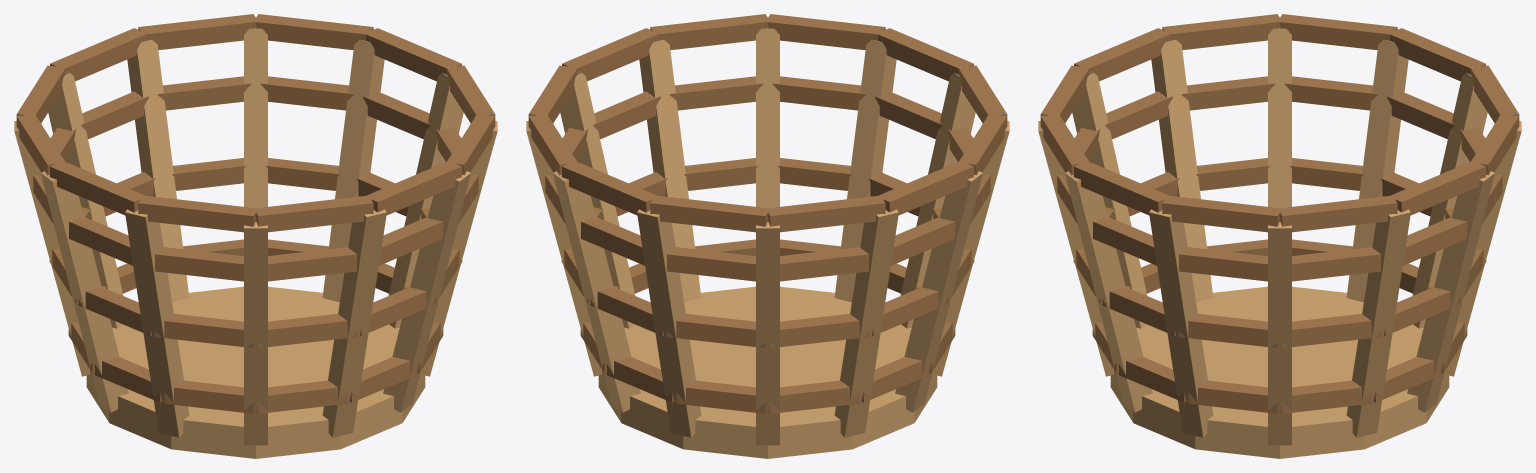
Rendered from TR_Basket_Woven.glb.
3 renders of one model, left to right at view 1: azimuth 30°, elevation 25°; view 2: azimuth 150°, elevation 25°; view 3: azimuth 270°, elevation 25°, orthographic.
Parts seen in each view (by area): view 1: TR_Basket_Woven; view 2: TR_Basket_Woven; view 3: TR_Basket_Woven.
Part boxes in pixels (left/top/right/bottom): TR_Basket_Woven: left=14, top=14, right=497, bottom=458; TR_Basket_Woven: left=526, top=14, right=1009, bottom=458; TR_Basket_Woven: left=1038, top=14, right=1521, bottom=458.
Bounding box in the file's own units: 0.714 × 0.444 × 0.714.
